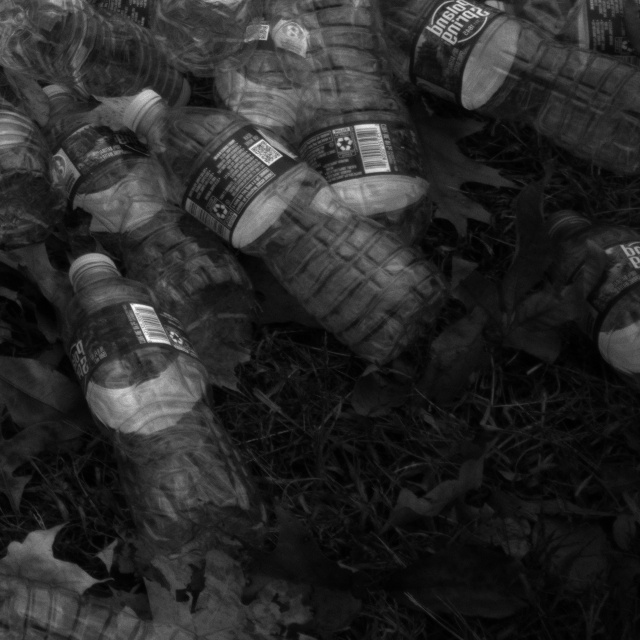bottle: (125, 82, 450, 374), (56, 221, 271, 562), (375, 0, 639, 177), (251, 0, 442, 229), (0, 26, 73, 257), (583, 172, 639, 383), (160, 0, 292, 64)
